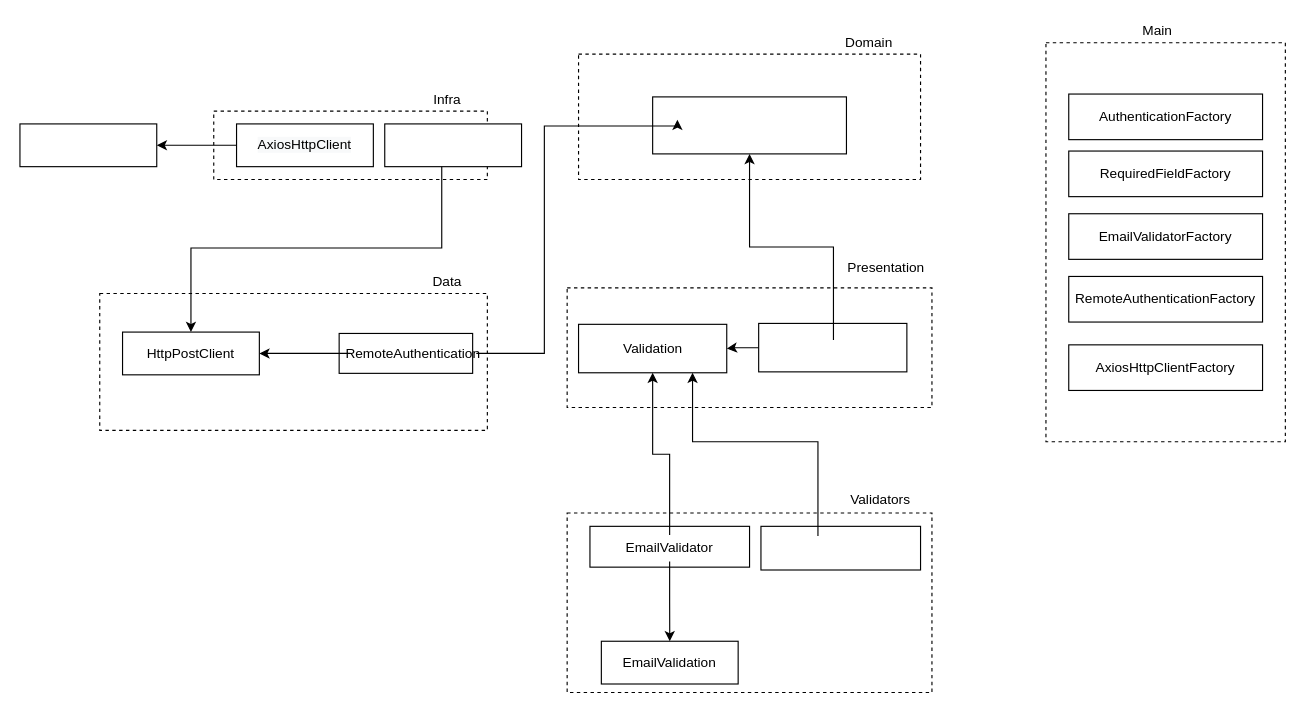
The diagram is 1305 pixels wide and 713 high, and some of its shapes have lost their labels. The shapes that lost their labels are listed below. From the top down, each one's centre as x and y in pixels, then its label:
pixel 88 145: Axios
pixel 453 145: FetchHttpClient
pixel 749 125: Authentication
pixel 832 347: Login
pixel 840 547: RequiredFieldValidator
